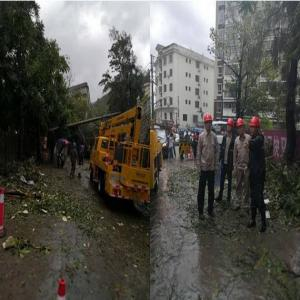red: (250, 115, 261, 137), (205, 114, 214, 134), (237, 119, 246, 136), (227, 119, 235, 134)
